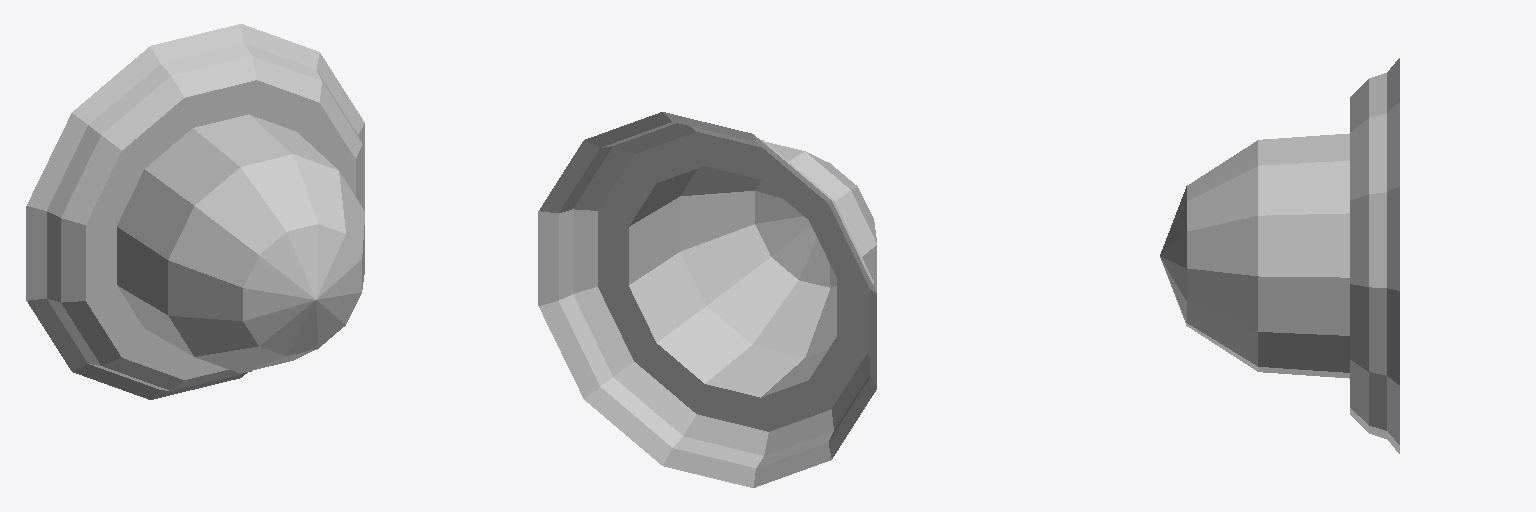
Rendered from original-50.obj.
The picture shows the model from 3 angles: view 1: azimuth 30°, elevation 25°; view 2: azimuth 150°, elevation 25°; view 3: azimuth 270°, elevation 25°; orthographic projection.
Parts seen in each view (by area): view 1: mesh34/mesh34-geometry#mesh34-geometry; view 2: mesh34/mesh34-geometry#mesh34-geometry; view 3: mesh34/mesh34-geometry#mesh34-geometry.
Part boxes in pixels (bbox=[...]): mesh34/mesh34-geometry#mesh34-geometry: bbox=[26, 24, 364, 399]; mesh34/mesh34-geometry#mesh34-geometry: bbox=[538, 112, 876, 487]; mesh34/mesh34-geometry#mesh34-geometry: bbox=[1160, 58, 1399, 453].
Bounding box in the file's own units: 0.0178 × 0.0178 × 0.011.